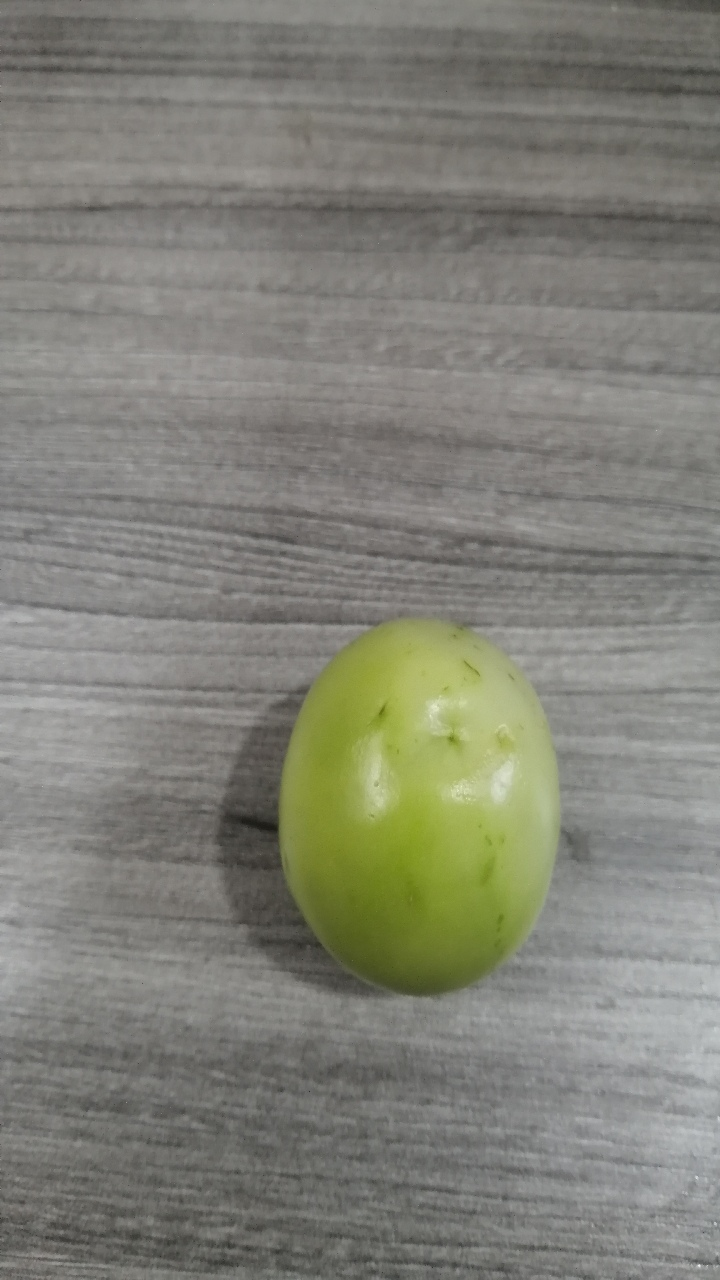tomateVerde: (251, 602, 574, 1005)
